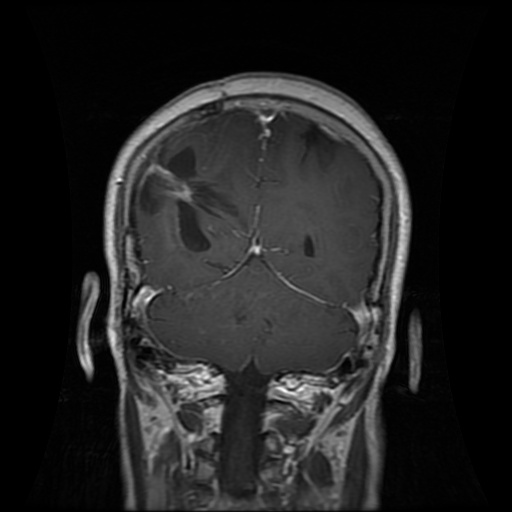glioma: (138, 145, 244, 253)
